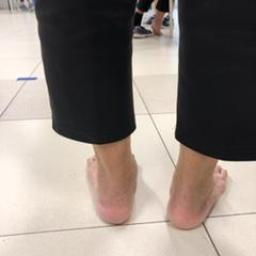Back View -Both Feet-: (72, 134, 237, 244)
